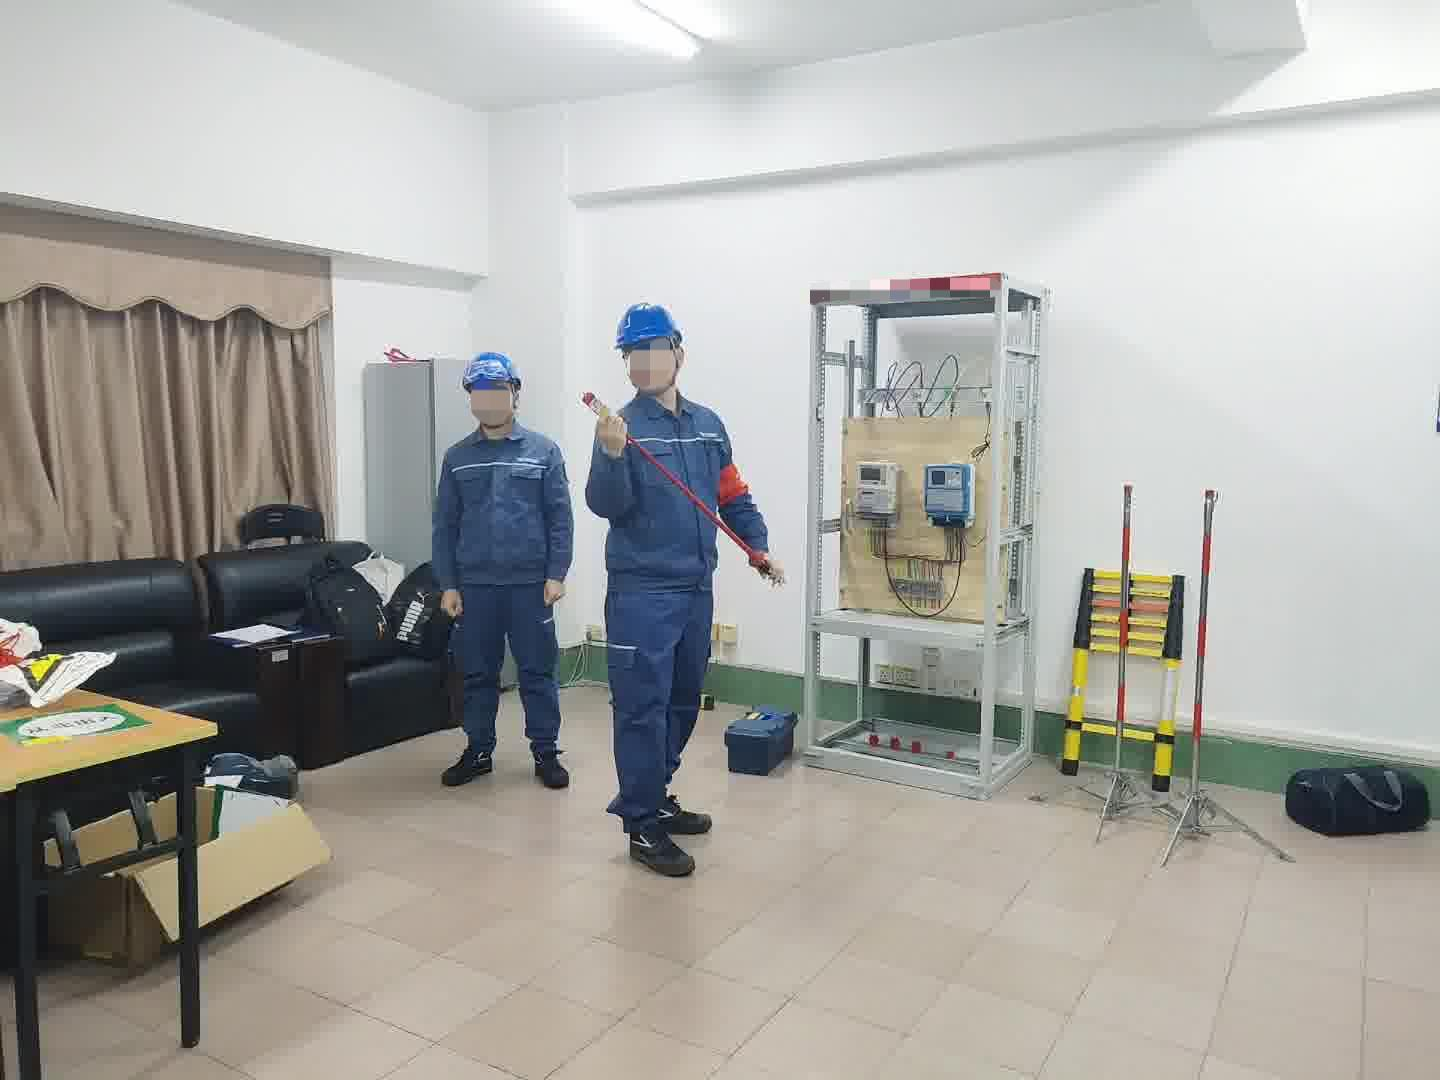halt: (616, 303, 691, 398), (461, 352, 527, 434)
